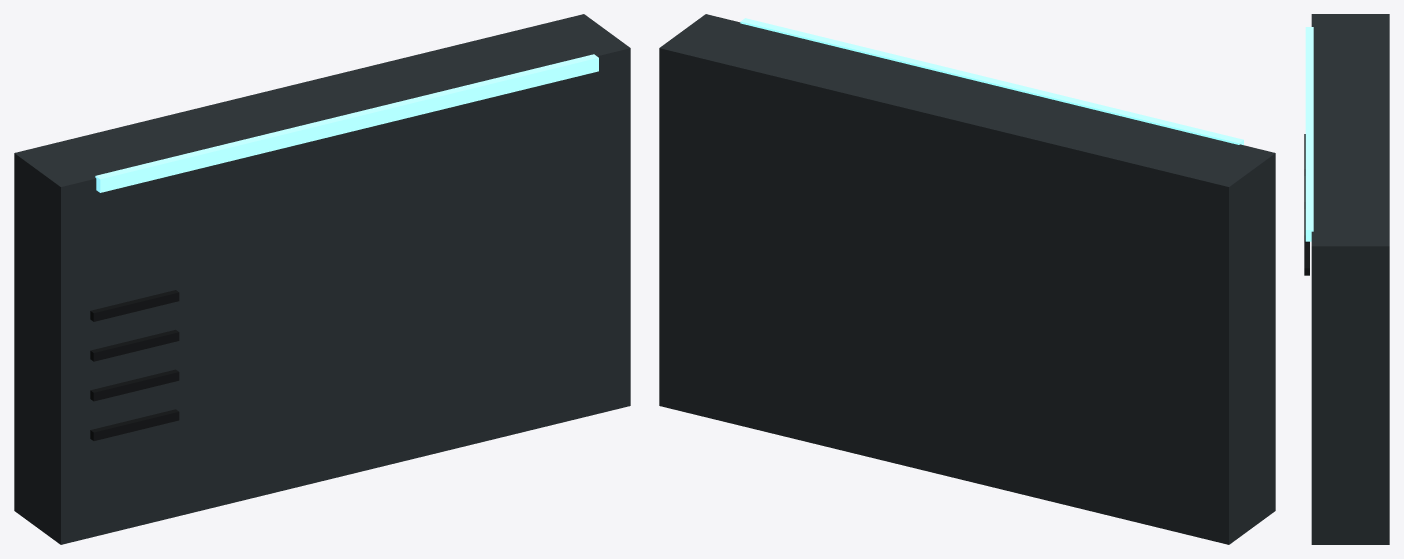
The model's file is hp_room_wall_occluder_maintenance_half_panel.glb.
3 views of the same model, side by side, from view 1: azimuth 30°, elevation 25°; view 2: azimuth 150°, elevation 25°; view 3: azimuth 270°, elevation 25° (orthographic). The views are drawn at different scales.
Parts seen in each view (by area): view 1: half_panel_layered_backplate, half_panel_top_blue_read_strip, half_panel_left_vent_0.42, half_panel_left_vent_0.58, half_panel_left_vent_0.74, half_panel_left_vent_0.9; view 2: half_panel_layered_backplate, half_panel_top_blue_read_strip; view 3: half_panel_layered_backplate, half_panel_top_blue_read_strip, half_panel_left_vent_0.42.
Boxes of the visible parts, x1=… form: half_panel_layered_backplate: x1=14, y1=14, x2=630, y2=544; half_panel_top_blue_read_strip: x1=95, y1=54, x2=598, y2=192; half_panel_left_vent_0.42: x1=90, y1=409, x2=179, y2=440; half_panel_left_vent_0.58: x1=90, y1=369, x2=179, y2=401; half_panel_left_vent_0.74: x1=90, y1=329, x2=179, y2=361; half_panel_left_vent_0.9: x1=90, y1=290, x2=179, y2=321; half_panel_layered_backplate: x1=659, y1=14, x2=1275, y2=544; half_panel_top_blue_read_strip: x1=740, y1=18, x2=1243, y2=145; half_panel_layered_backplate: x1=1311, y1=14, x2=1389, y2=544; half_panel_top_blue_read_strip: x1=1305, y1=27, x2=1313, y2=241; half_panel_left_vent_0.42: x1=1304, y1=242, x2=1309, y2=275.
Size of the model in its own units: 2.4 by 1.45 by 0.3725.
